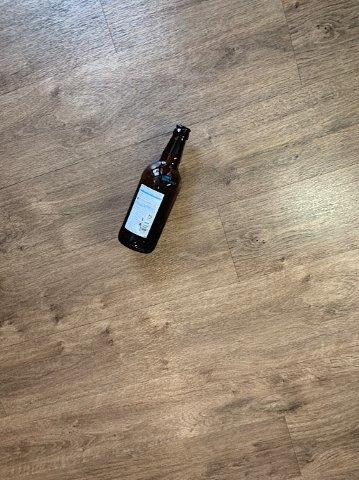botolkaca: (119, 126, 189, 252)
